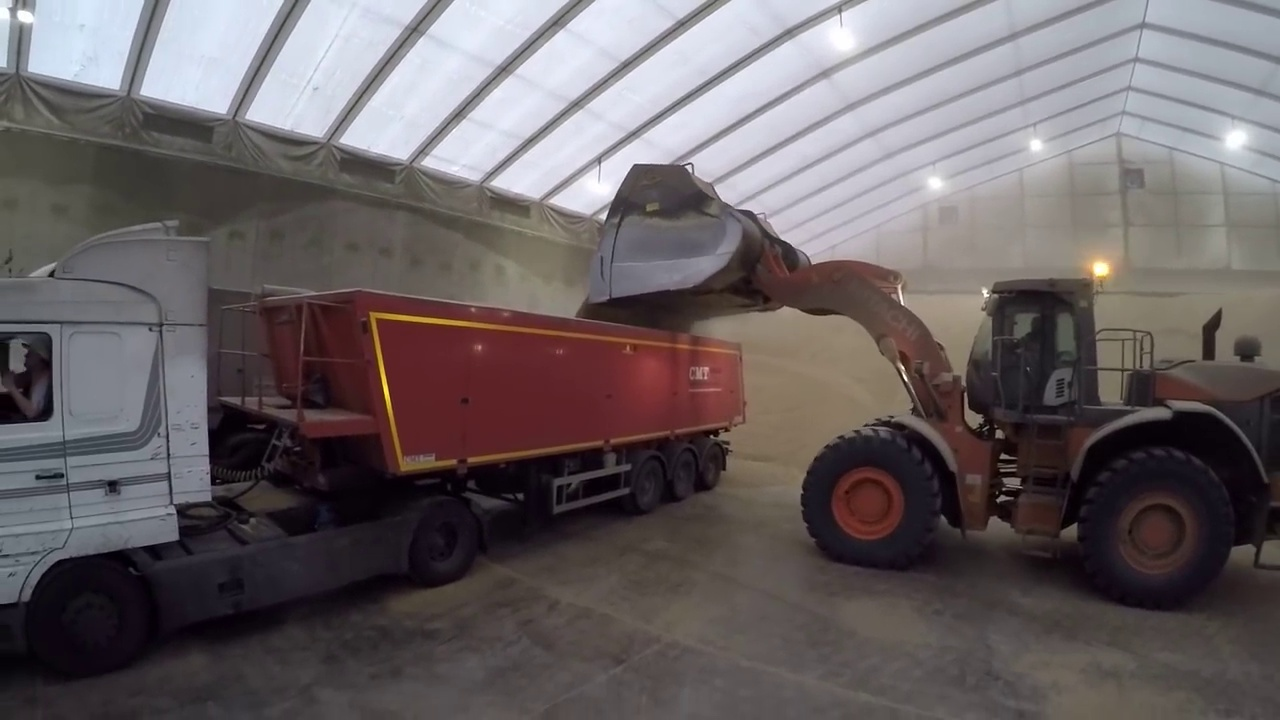person: (13, 338, 53, 427)
truck: (2, 223, 753, 680)
wheel loader: (574, 157, 1277, 608)
